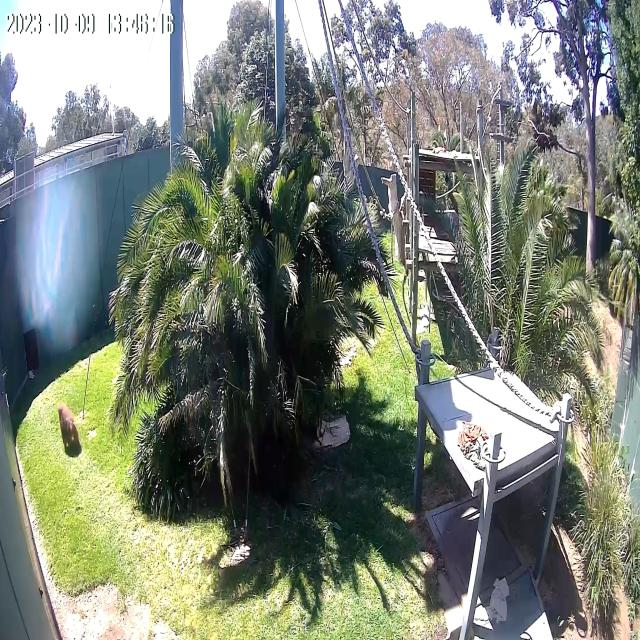orangutan: (57, 399, 79, 452)
